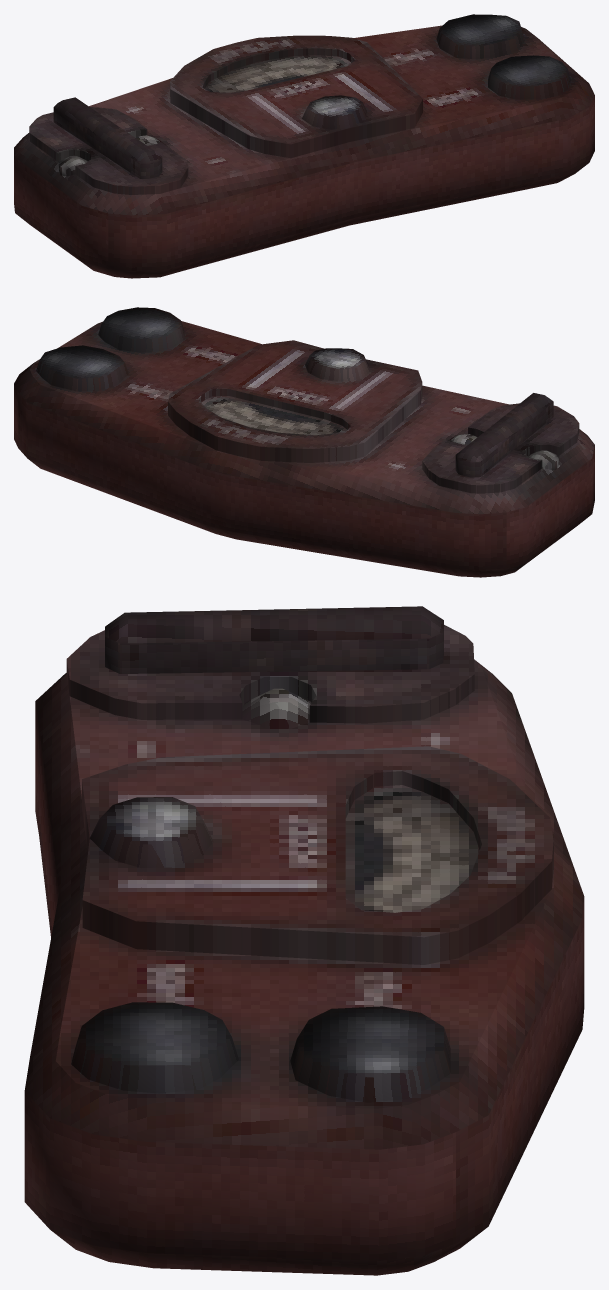
Rendered from dosimeter_1.glb.
3 renders of one model, top to bottom at view 1: azimuth 30°, elevation 25°; view 2: azimuth 150°, elevation 25°; view 3: azimuth 270°, elevation 25°, orthographic. The views are drawn at different scales.
Visible parts, largest first — view 1: dosimeter_1; view 2: dosimeter_1; view 3: dosimeter_1.
Part boxes in pixels (<box>): dosimeter_1: <box>14,14,594,278</box>; dosimeter_1: <box>14,307,594,577</box>; dosimeter_1: <box>24,606,584,1275</box>.
Size of the model in its own units: 0.3097 by 0.0656 by 0.1459.
1 material, 1 textured.
